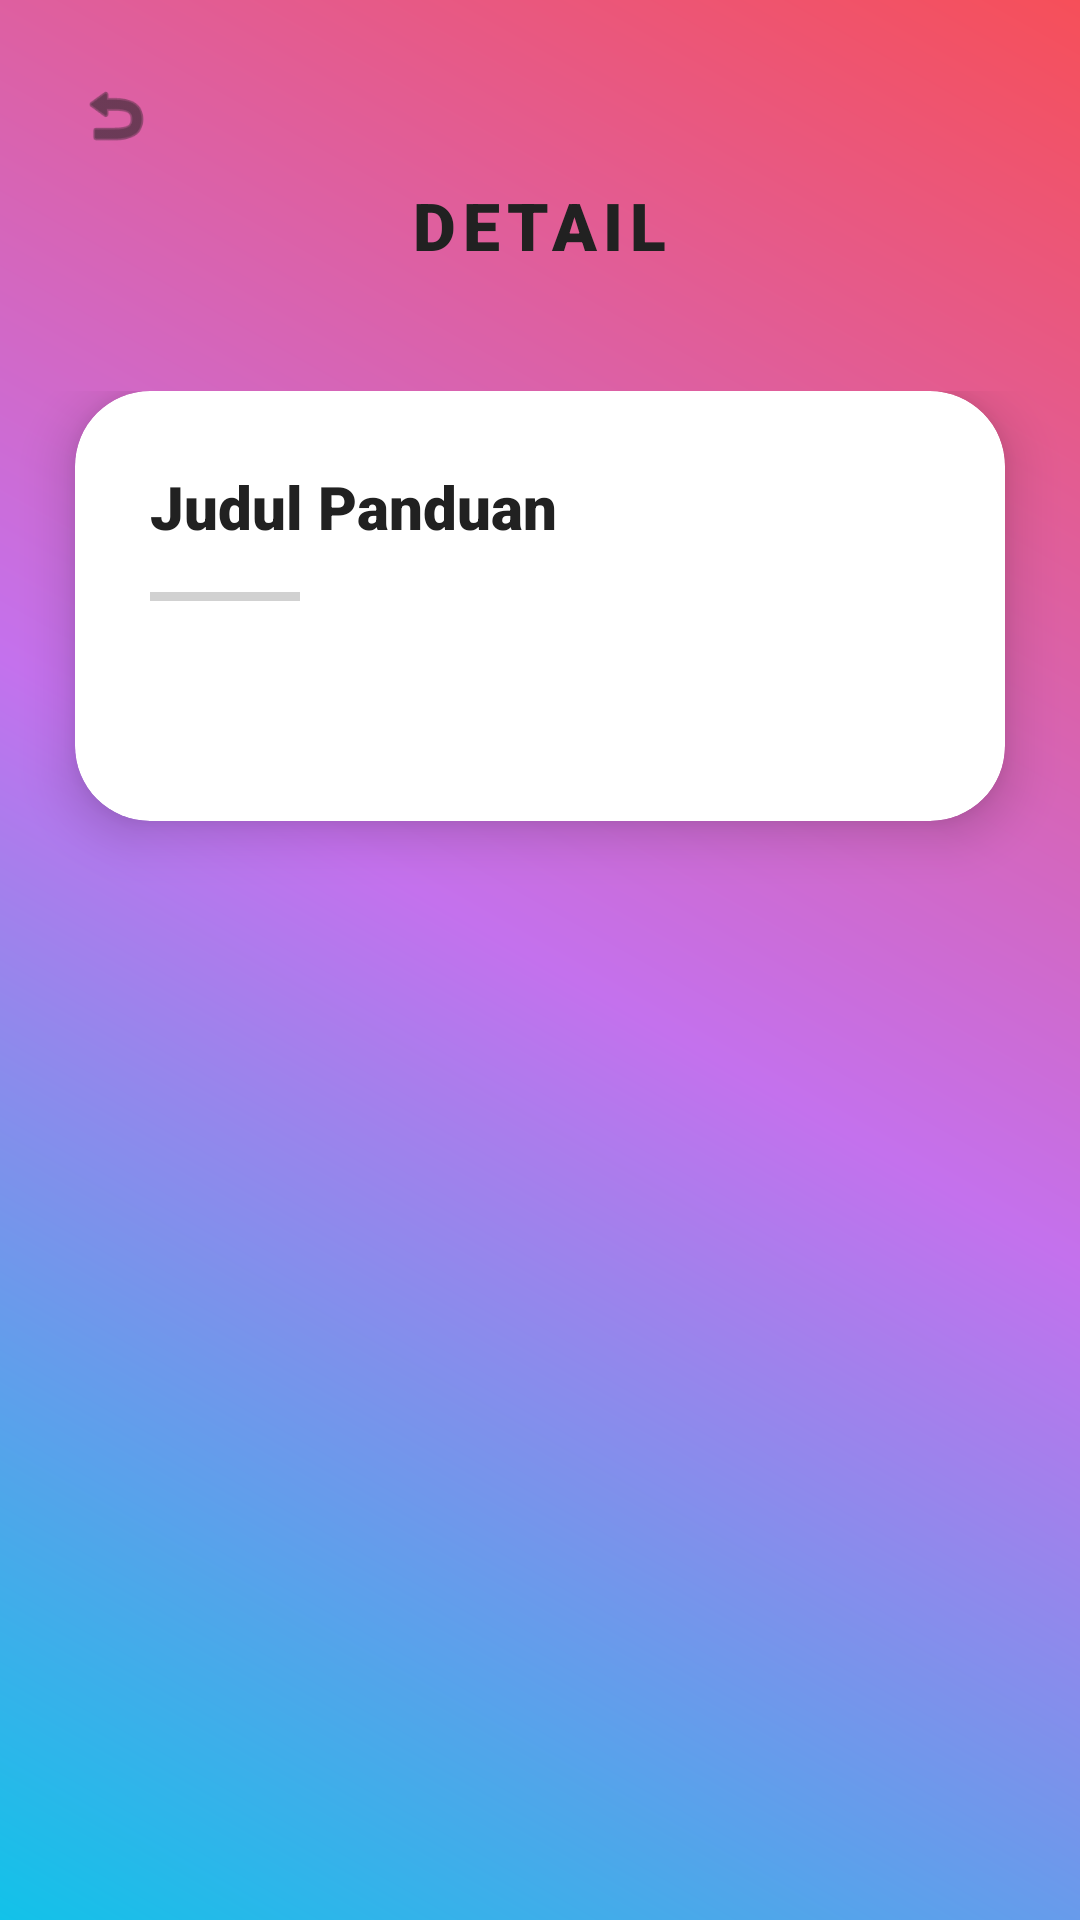

Icons on this 1080 × 1920 Android screen, each with the point to tap as (x=x, y=y):
revert: (x=117, y=116)
